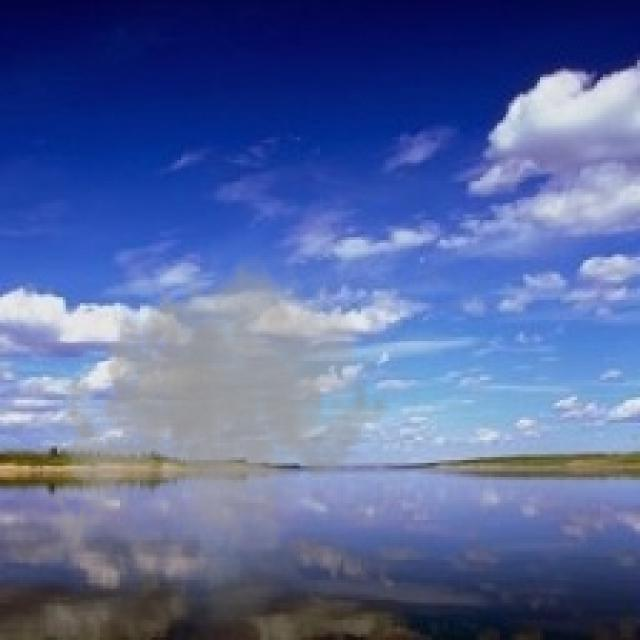smoke: (43, 243, 391, 614)
